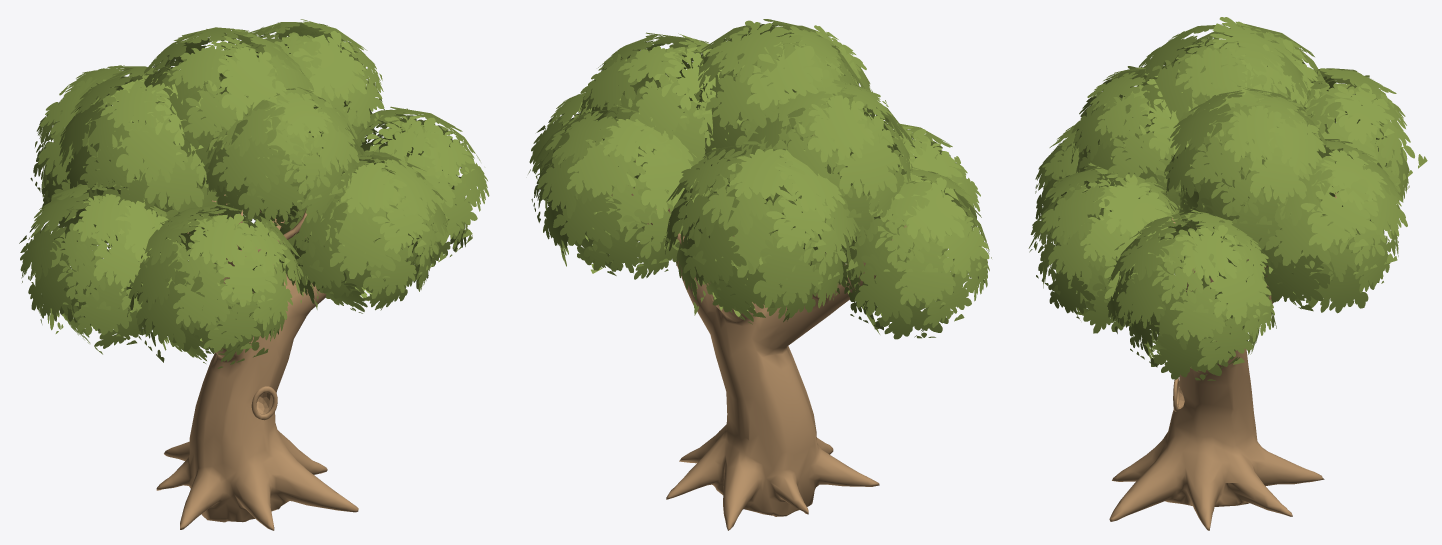
File: oak_LOD1.fbx
3 renders of one model, left to right at view 1: azimuth 30°, elevation 25°; view 2: azimuth 150°, elevation 25°; view 3: azimuth 270°, elevation 25°, orthographic.
Parts seen in each view (by area): view 1: Leaves_LOD1, Trunk_LOD1; view 2: Leaves_LOD1, Trunk_LOD1; view 3: Leaves_LOD1, Trunk_LOD1.
Boxes of the visible parts, x1=… form: Leaves_LOD1: x1=19, y1=19, x2=489, y2=368; Trunk_LOD1: x1=140, y1=194, x2=358, y2=530; Leaves_LOD1: x1=528, y1=19, x2=991, y2=339; Trunk_LOD1: x1=611, y1=135, x2=906, y2=530; Leaves_LOD1: x1=1028, y1=17, x2=1427, y2=380; Trunk_LOD1: x1=1109, y1=192, x2=1337, y2=530.
Size of the model in its own units: 733 by 740 by 578.
